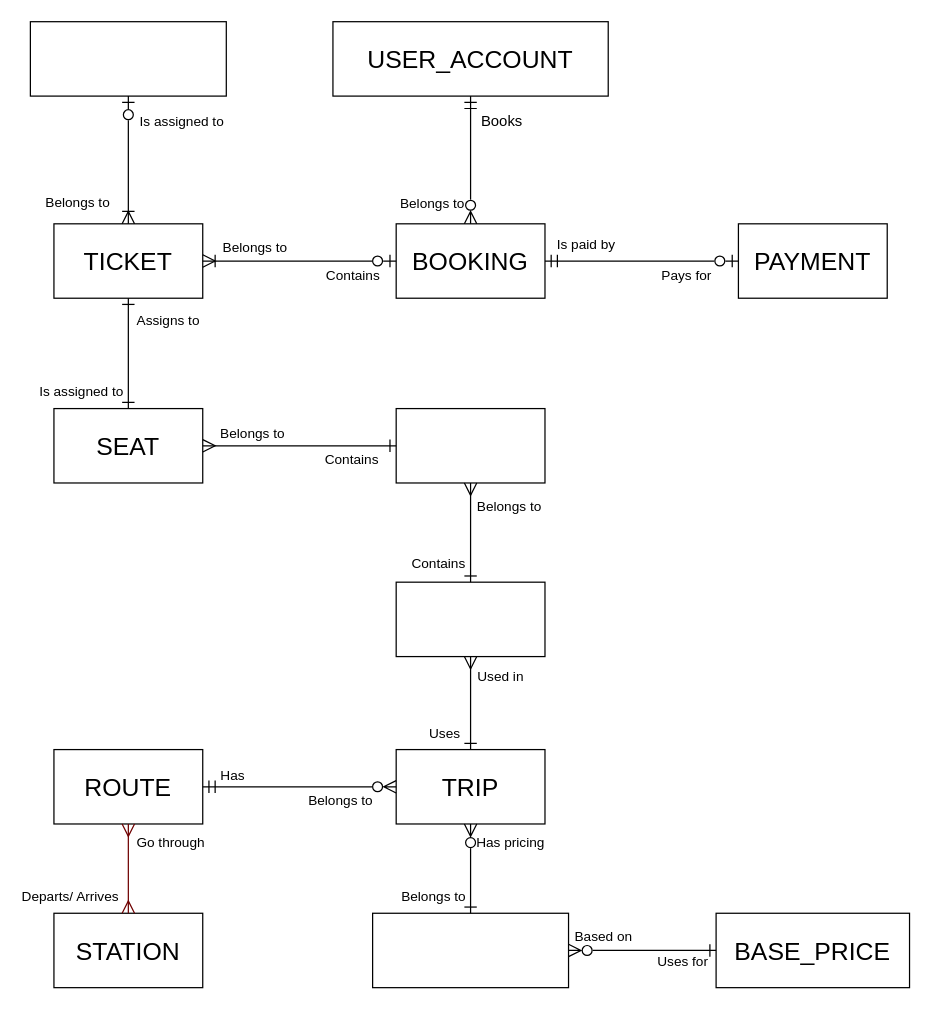
This 931x1009 diagram has some shape labels left out. Each missing label, with the centre of its shape:
CARRIAGE: the point at 470,445
PASSENGER: the point at 127,58
TRAIN: the point at 470,619
TRIP_PRICING: the point at 470,950
